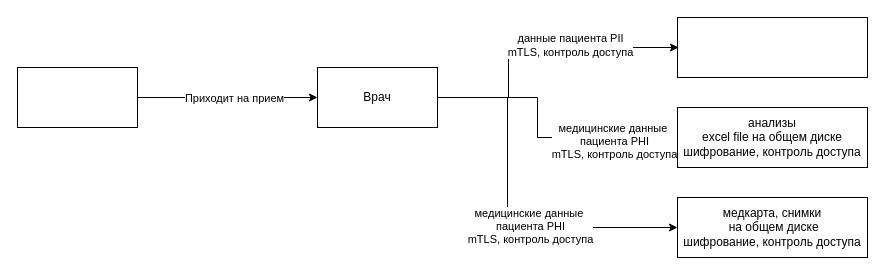
The diagram is 885 pixels wide and 275 high, and some of its shapes have lost their labels. Each missing label, with the centre of its shape:
"журнал приема excel file на общем диске шифрование, контроль доступа" goes at pixel 772 47.
"Пациент" goes at pixel 77 97.
